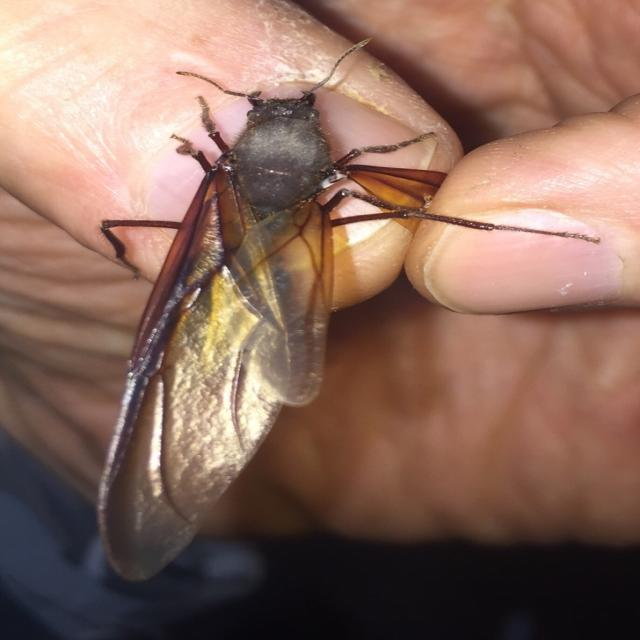Alive-Female-Alate: (95, 36, 600, 582)
